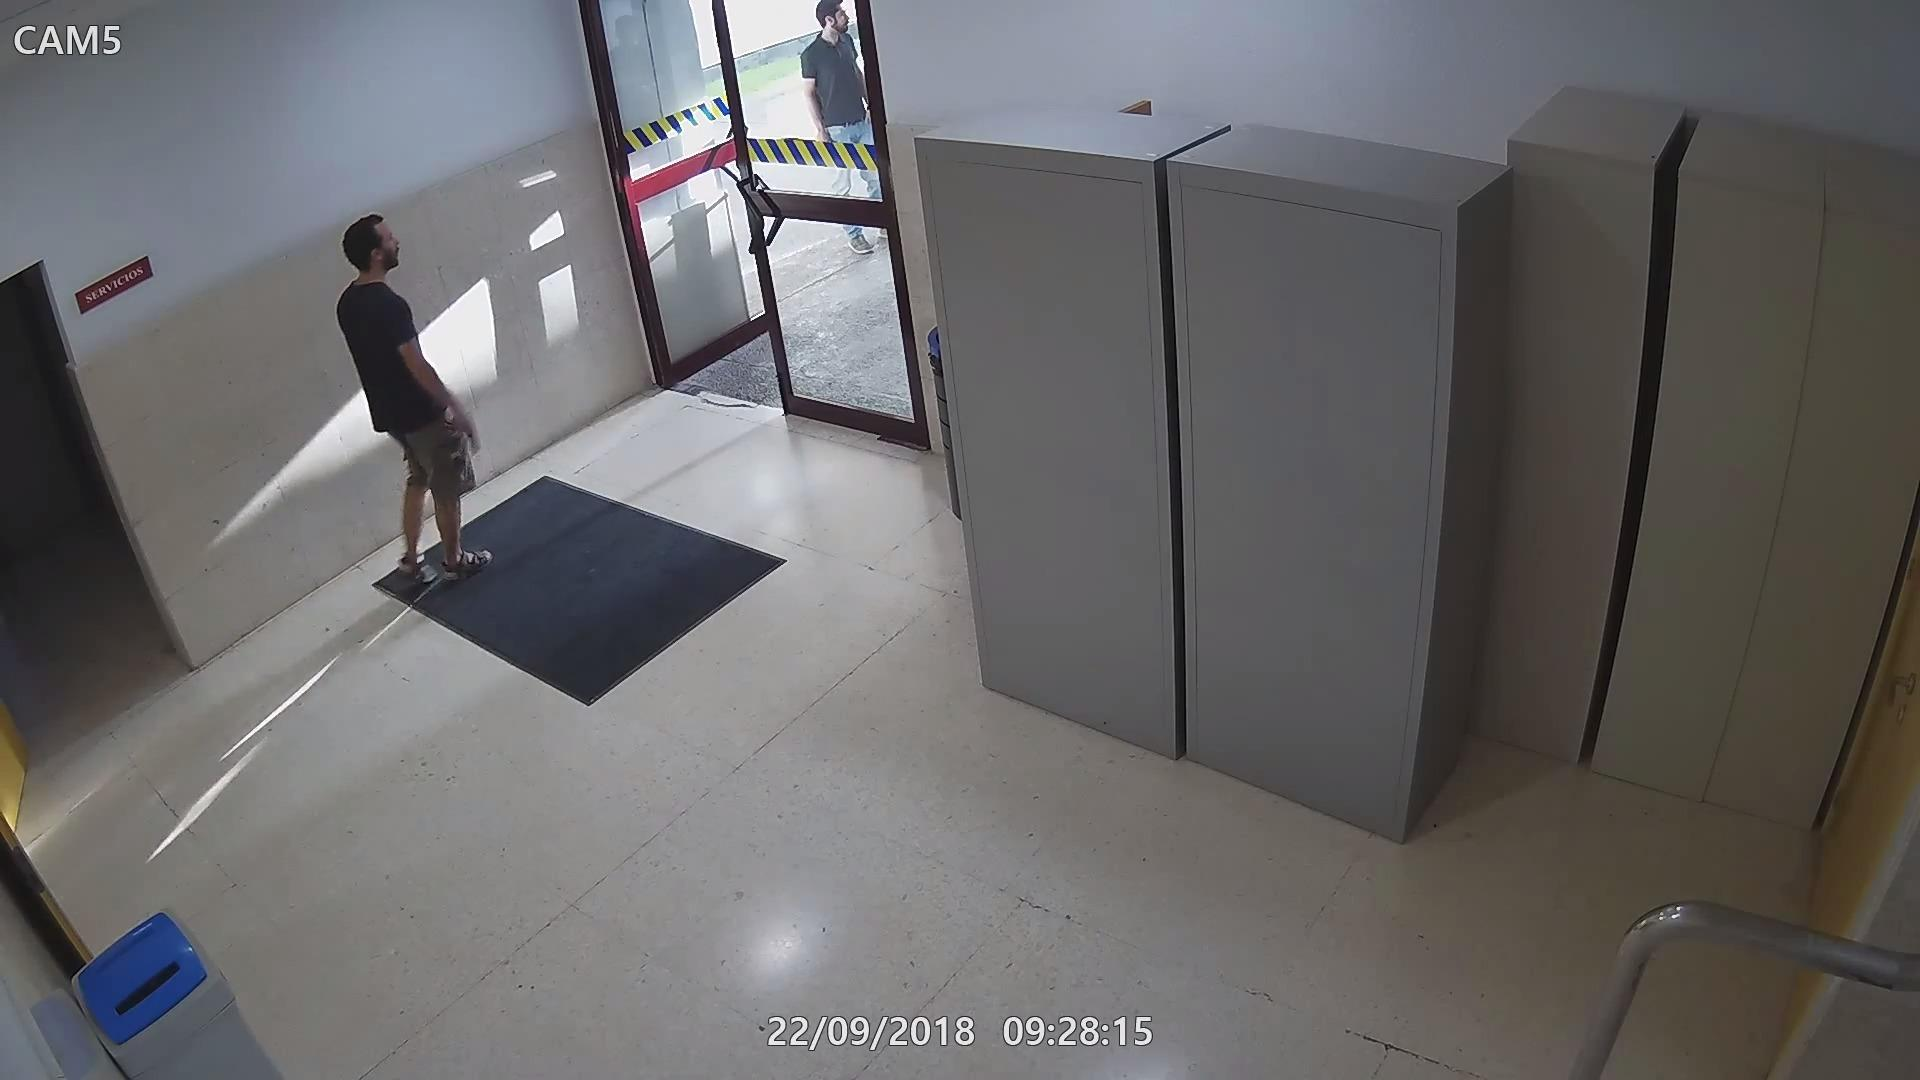Handgun: (446, 400, 487, 458)
